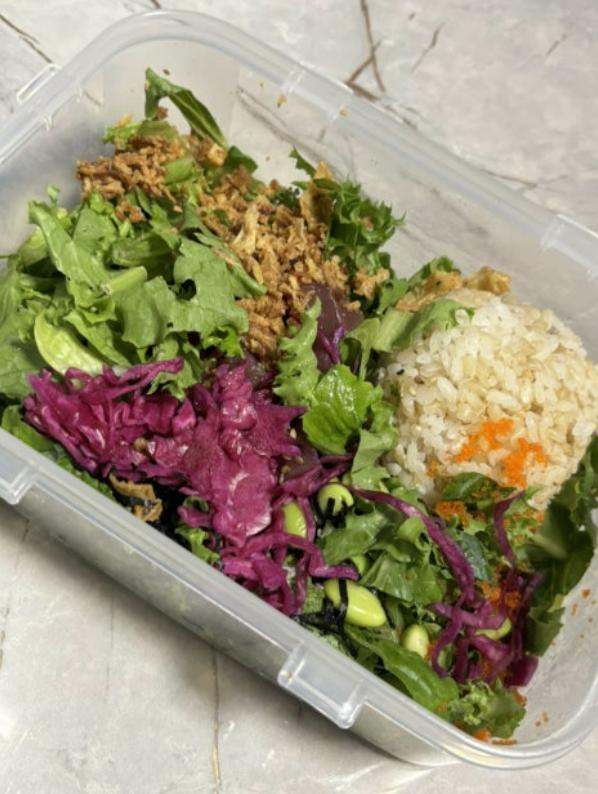Lunch Box: (0, 11, 597, 769)
